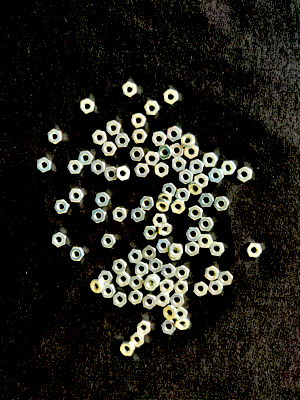nut: (163, 89, 179, 106), (122, 82, 138, 98), (144, 100, 160, 116), (151, 131, 167, 147), (202, 152, 218, 168), (131, 113, 146, 129), (105, 121, 121, 136), (92, 130, 107, 146), (48, 129, 63, 145), (167, 126, 182, 142), (129, 147, 145, 162), (172, 157, 187, 173), (189, 159, 204, 175), (208, 168, 224, 183), (199, 193, 215, 208), (54, 200, 70, 215), (209, 242, 225, 257), (168, 243, 184, 258), (142, 245, 157, 261), (128, 249, 144, 264), (175, 265, 190, 281), (205, 266, 220, 282), (218, 271, 234, 286), (175, 316, 191, 331), (136, 320, 151, 336), (130, 332, 145, 348), (120, 341, 135, 357), (246, 244, 263, 258), (80, 99, 95, 114), (132, 129, 147, 144), (145, 151, 160, 166), (158, 145, 173, 160), (78, 151, 93, 166), (37, 158, 52, 173), (116, 166, 131, 181), (135, 163, 150, 178), (179, 170, 194, 185), (199, 217, 214, 232), (139, 196, 154, 211), (112, 208, 127, 223), (95, 193, 110, 208), (91, 209, 106, 224), (186, 227, 201, 242), (70, 247, 85, 262), (52, 233, 67, 248), (185, 242, 200, 257), (156, 239, 171, 254), (112, 259, 127, 274), (148, 258, 163, 273), (209, 281, 224, 296), (194, 282, 209, 297), (90, 279, 105, 294), (116, 272, 131, 287), (129, 290, 144, 305), (170, 294, 185, 309), (162, 320, 177, 335), (101, 142, 117, 156), (67, 161, 83, 175), (238, 167, 252, 183), (175, 187, 191, 201), (214, 197, 230, 211), (189, 205, 203, 221), (131, 207, 145, 223), (68, 189, 84, 203), (198, 234, 214, 248), (113, 292, 127, 308), (115, 134, 130, 148), (181, 134, 195, 149), (91, 160, 105, 175), (155, 163, 169, 178), (221, 161, 236, 175), (194, 174, 209, 188), (188, 181, 203, 195), (162, 183, 177, 197), (158, 191, 173, 205), (171, 200, 186, 214), (158, 222, 172, 237), (143, 226, 158, 240), (101, 234, 116, 248), (135, 262, 149, 277), (162, 264, 176, 279), (129, 276, 144, 290), (144, 276, 158, 291), (160, 279, 174, 294), (174, 281, 189, 295), (143, 294, 157, 309), (163, 305, 177, 320), (98, 271, 114, 284), (185, 145, 199, 159), (102, 285, 116, 299), (156, 293, 170, 307), (171, 143, 184, 158), (152, 214, 167, 227), (104, 167, 117, 181), (156, 199, 170, 212), (168, 248, 181, 261), (148, 274, 161, 287), (175, 307, 188, 320)
